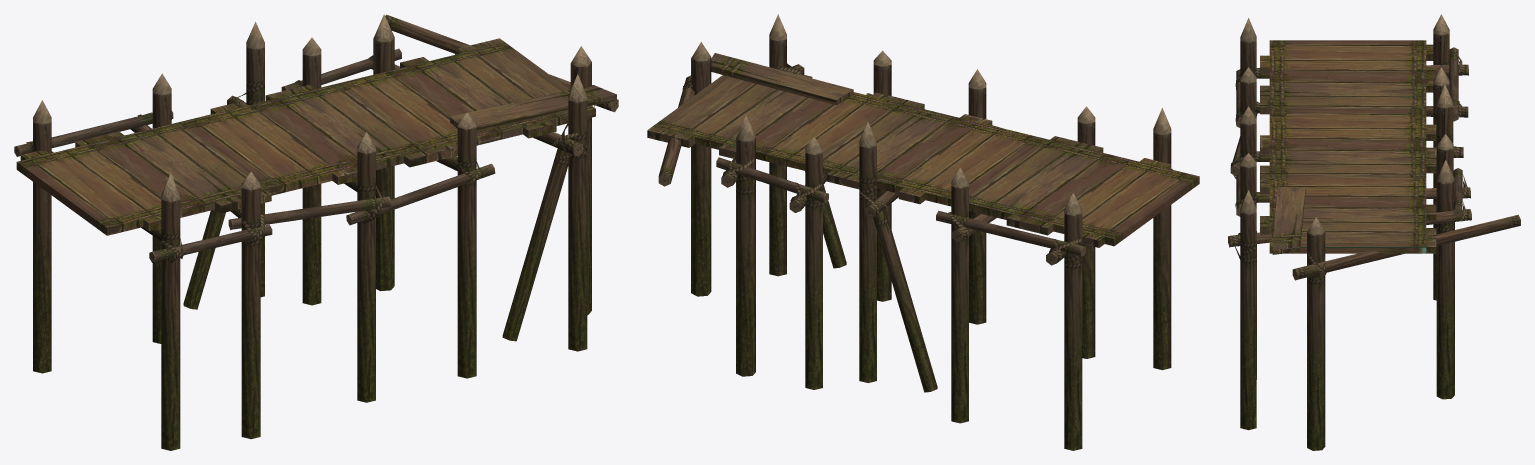
Rendered from shilianzhidi1_muqiao_001.FBX.
3 views of the same model, side by side, from view 1: azimuth 30°, elevation 25°; view 2: azimuth 150°, elevation 25°; view 3: azimuth 270°, elevation 25° (orthographic). The views are drawn at different scales.
Parts seen in each view (by area): view 1: shilianzhidi1_muqiao1; view 2: shilianzhidi1_muqiao1; view 3: shilianzhidi1_muqiao1.
Part boxes in pixels (x1,y1,x2,y2): shilianzhidi1_muqiao1: (14,14,618,450); shilianzhidi1_muqiao1: (647,14,1199,450); shilianzhidi1_muqiao1: (1228,14,1520,450).
Bounding box in the file's own units: 2375 × 1319 × 1297.
1 material, 1 textured.
